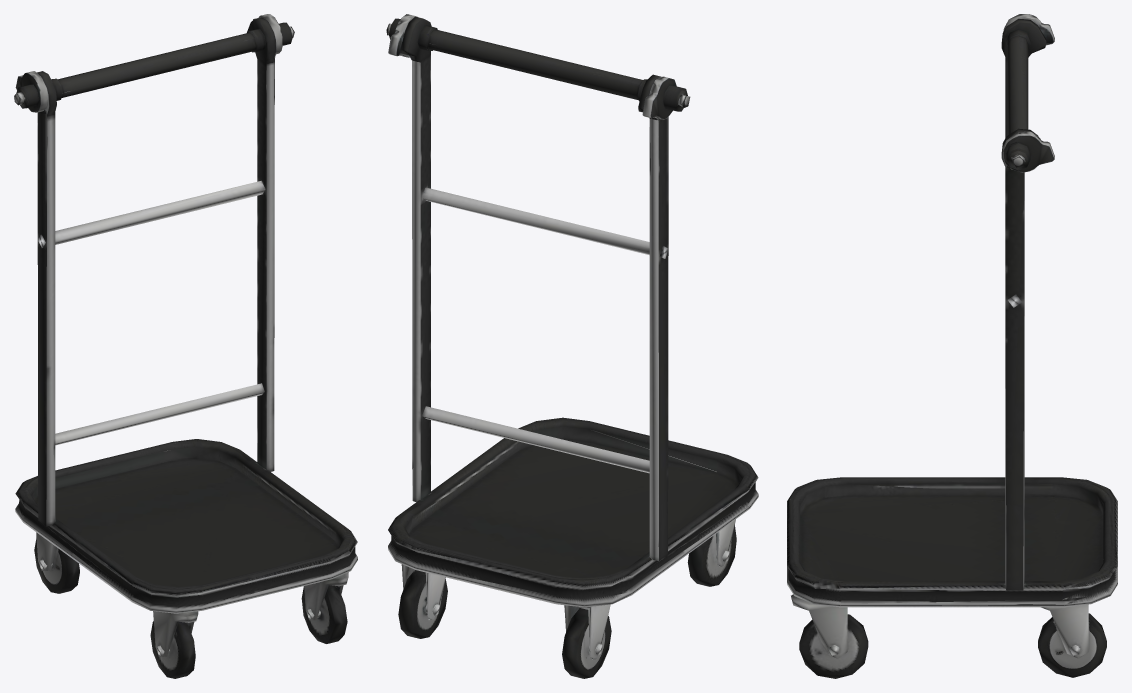
The model's file is trolley.glb.
The picture shows the model from 3 angles, left to right: view 1: azimuth 30°, elevation 25°; view 2: azimuth 150°, elevation 25°; view 3: azimuth 270°, elevation 25°; orthographic projection. The views are drawn at different scales.
Parts seen in each view (by area): view 1: tripo_node_7f4bdc49-5c2a-46ce-8ff2-169073553725; view 2: tripo_node_7f4bdc49-5c2a-46ce-8ff2-169073553725; view 3: tripo_node_7f4bdc49-5c2a-46ce-8ff2-169073553725.
Part boxes in pixels (box(x1,y1,x2,y2)): tripo_node_7f4bdc49-5c2a-46ce-8ff2-169073553725: box(14, 14, 357, 678); tripo_node_7f4bdc49-5c2a-46ce-8ff2-169073553725: box(386, 14, 758, 678); tripo_node_7f4bdc49-5c2a-46ce-8ff2-169073553725: box(787, 14, 1117, 678).
Bounding box in the file's own units: 0.5254 × 0.998 × 0.5332.
Materials: 1 (1 with a texture image).
